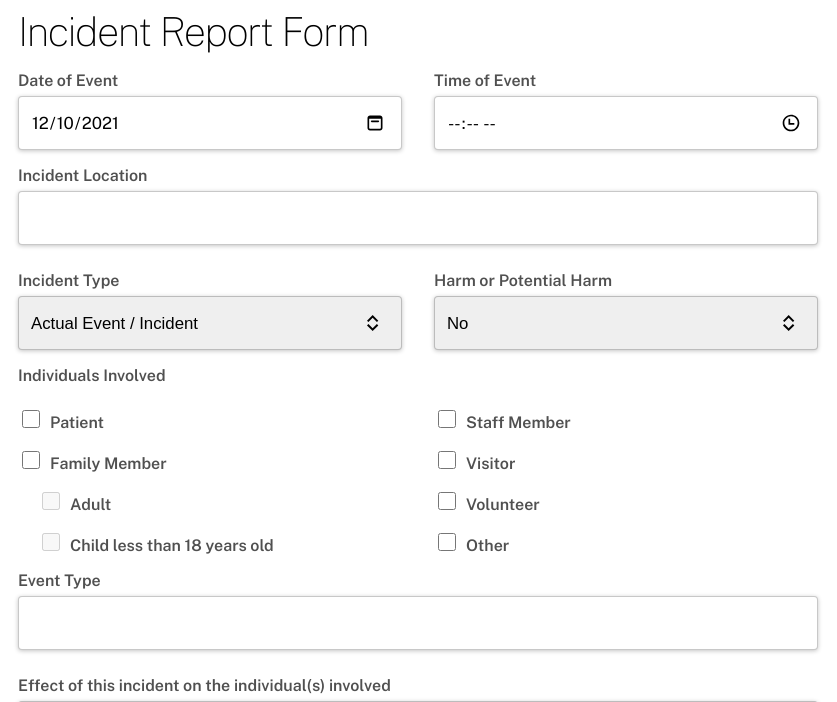
Test: SirForm › adds a new Chip by pressing the ENTER key
The image size is (837, 702).
Type "DUI" into the field with test id "chip-input-type-of-event".
click(396, 623); type("DUI")  # box [19,596,773,650]
Then press Enter
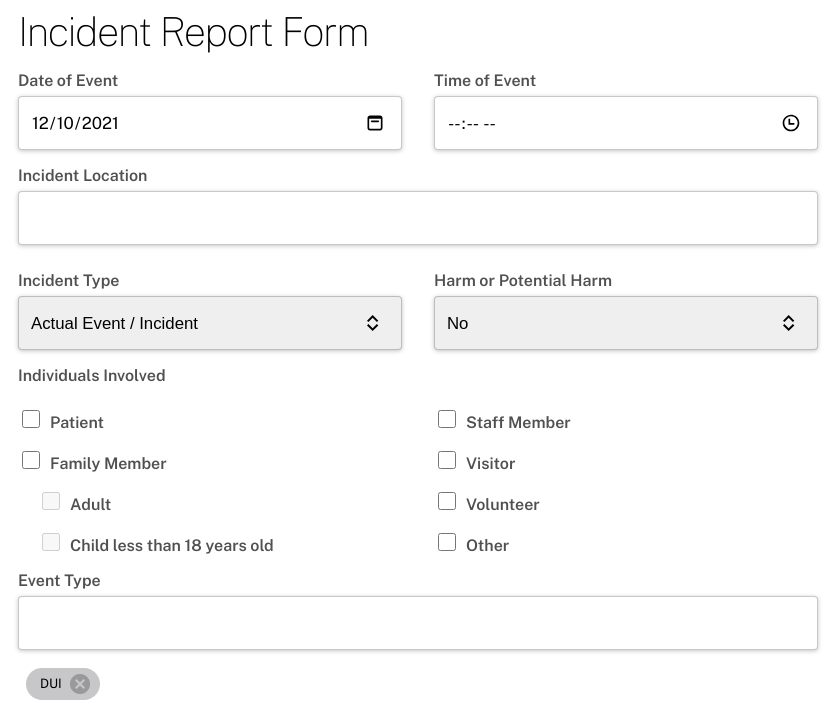
Result: the button with test id "id-DUI" is shown at [66,670,94,698]
